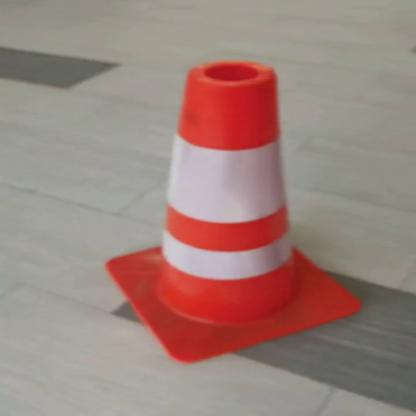cone: (50, 47, 378, 367)
